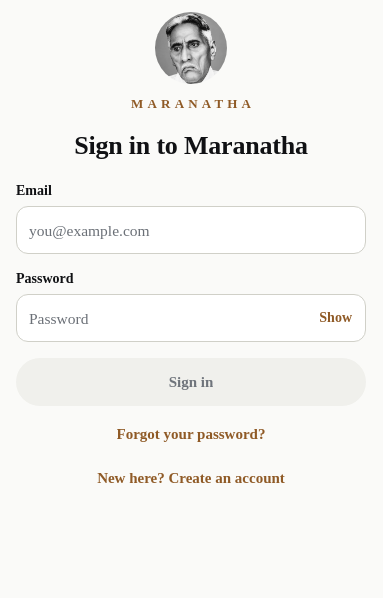
Test case: SignInScreen › disables submit until both fields have something in them
expect the button with test id "email-submit-button" is disabled: met, box [16, 358, 366, 406]
Type "member@example.com" into the field with test id "email-input".
click(191, 230); type("member@example.com")  # box [16, 206, 366, 254]
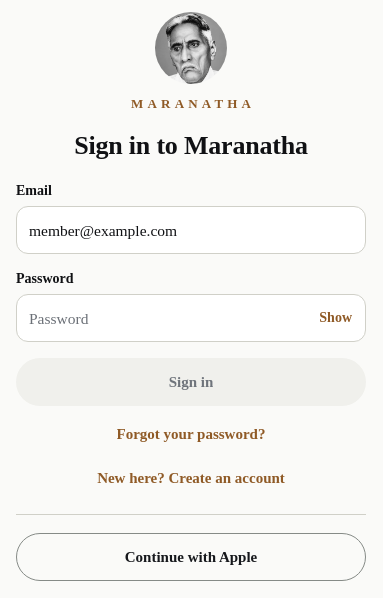
expect the button with test id "email-submit-button" is disabled: met, box [16, 358, 366, 406]
Type "x" into the password field with test id "password-input".
click(191, 318); type("x")  # box [16, 294, 366, 342]
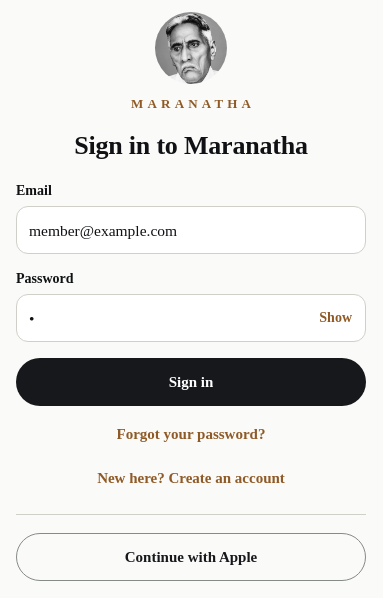
expect the button with test id "email-submit-button" is enabled: met, box [16, 358, 366, 406]
